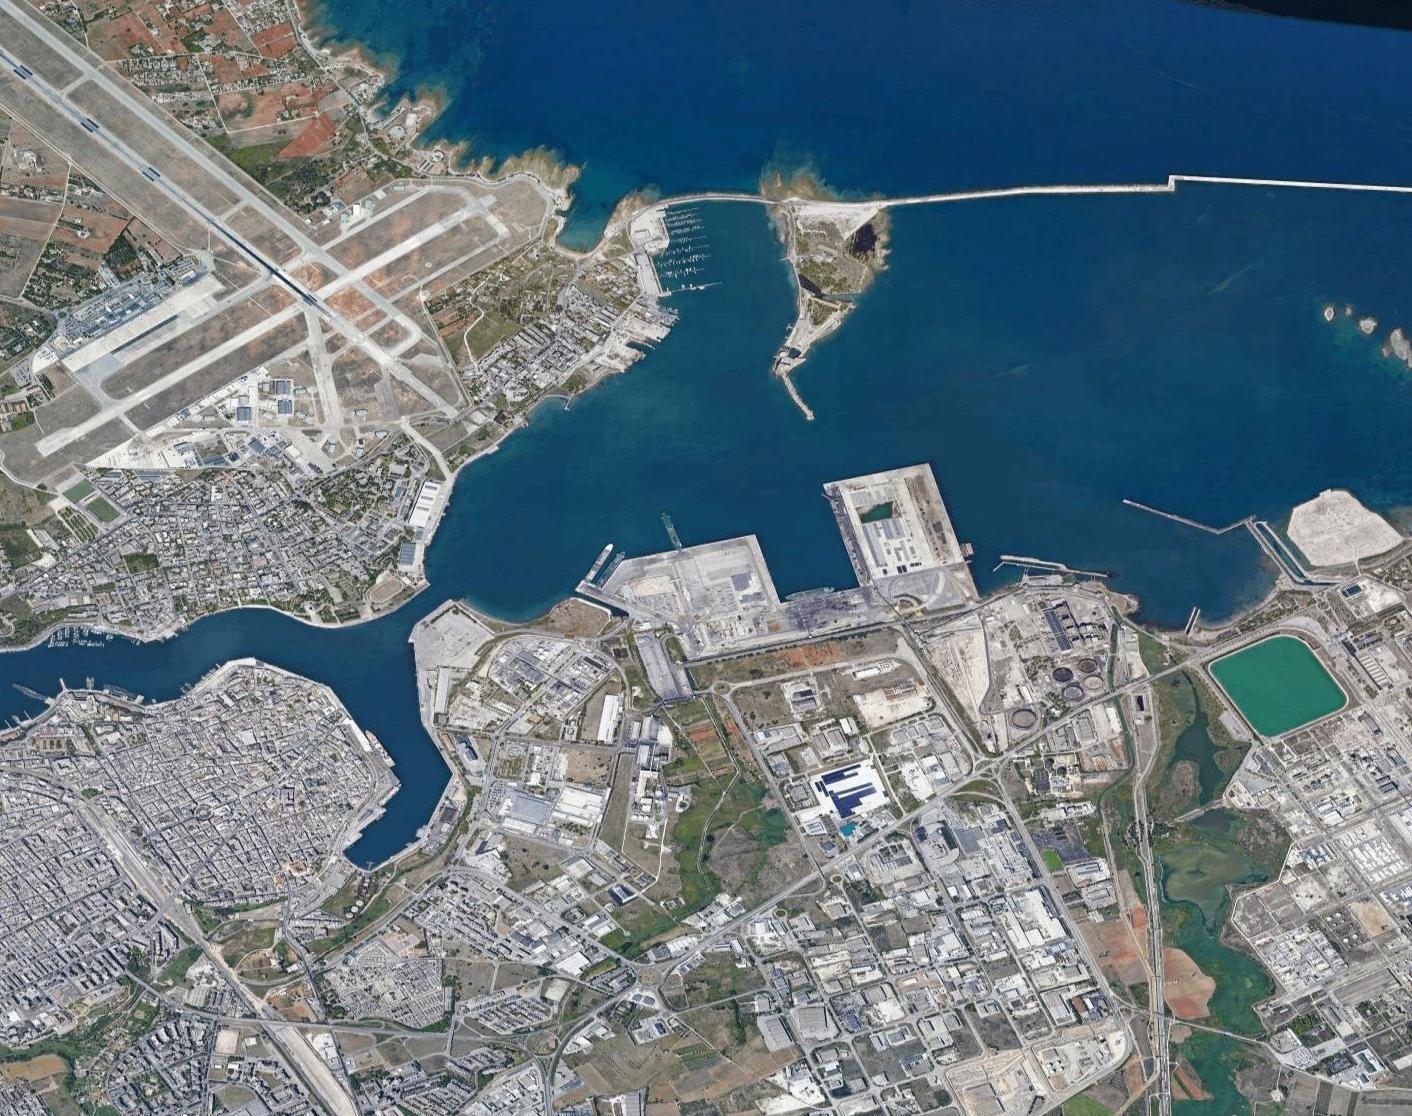harbor: (568, 457, 978, 640), (635, 187, 785, 311)
